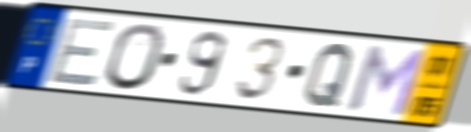3: (234, 35, 287, 102)
9: (176, 28, 227, 98)
E: (44, 16, 121, 88)
M: (345, 41, 429, 119)
O: (102, 21, 168, 94)
Q: (301, 41, 358, 110)
